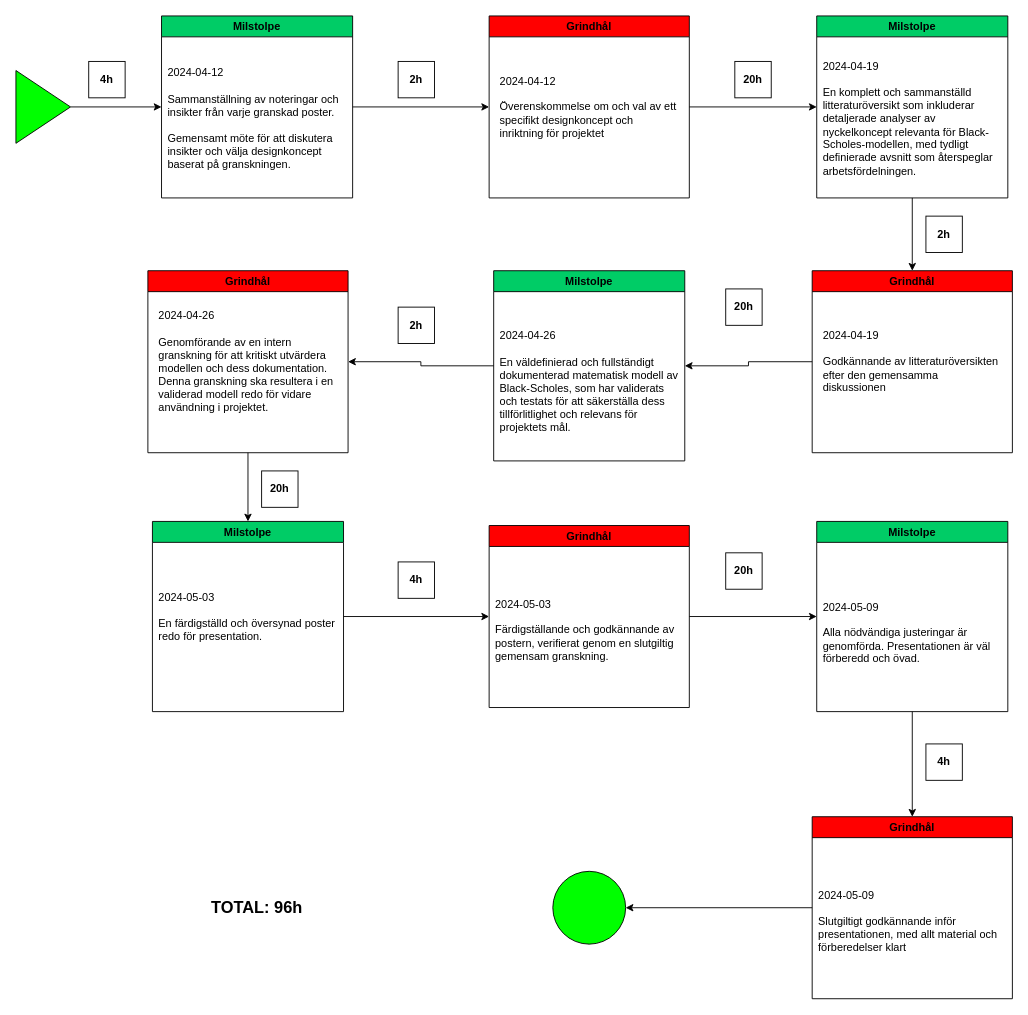
This 1028x1015 diagram has some shape labels left out. Each missing label, with the centre of its shape:
"FINISH" goes at (x=589, y=907).
"START" goes at (x=43, y=106).
